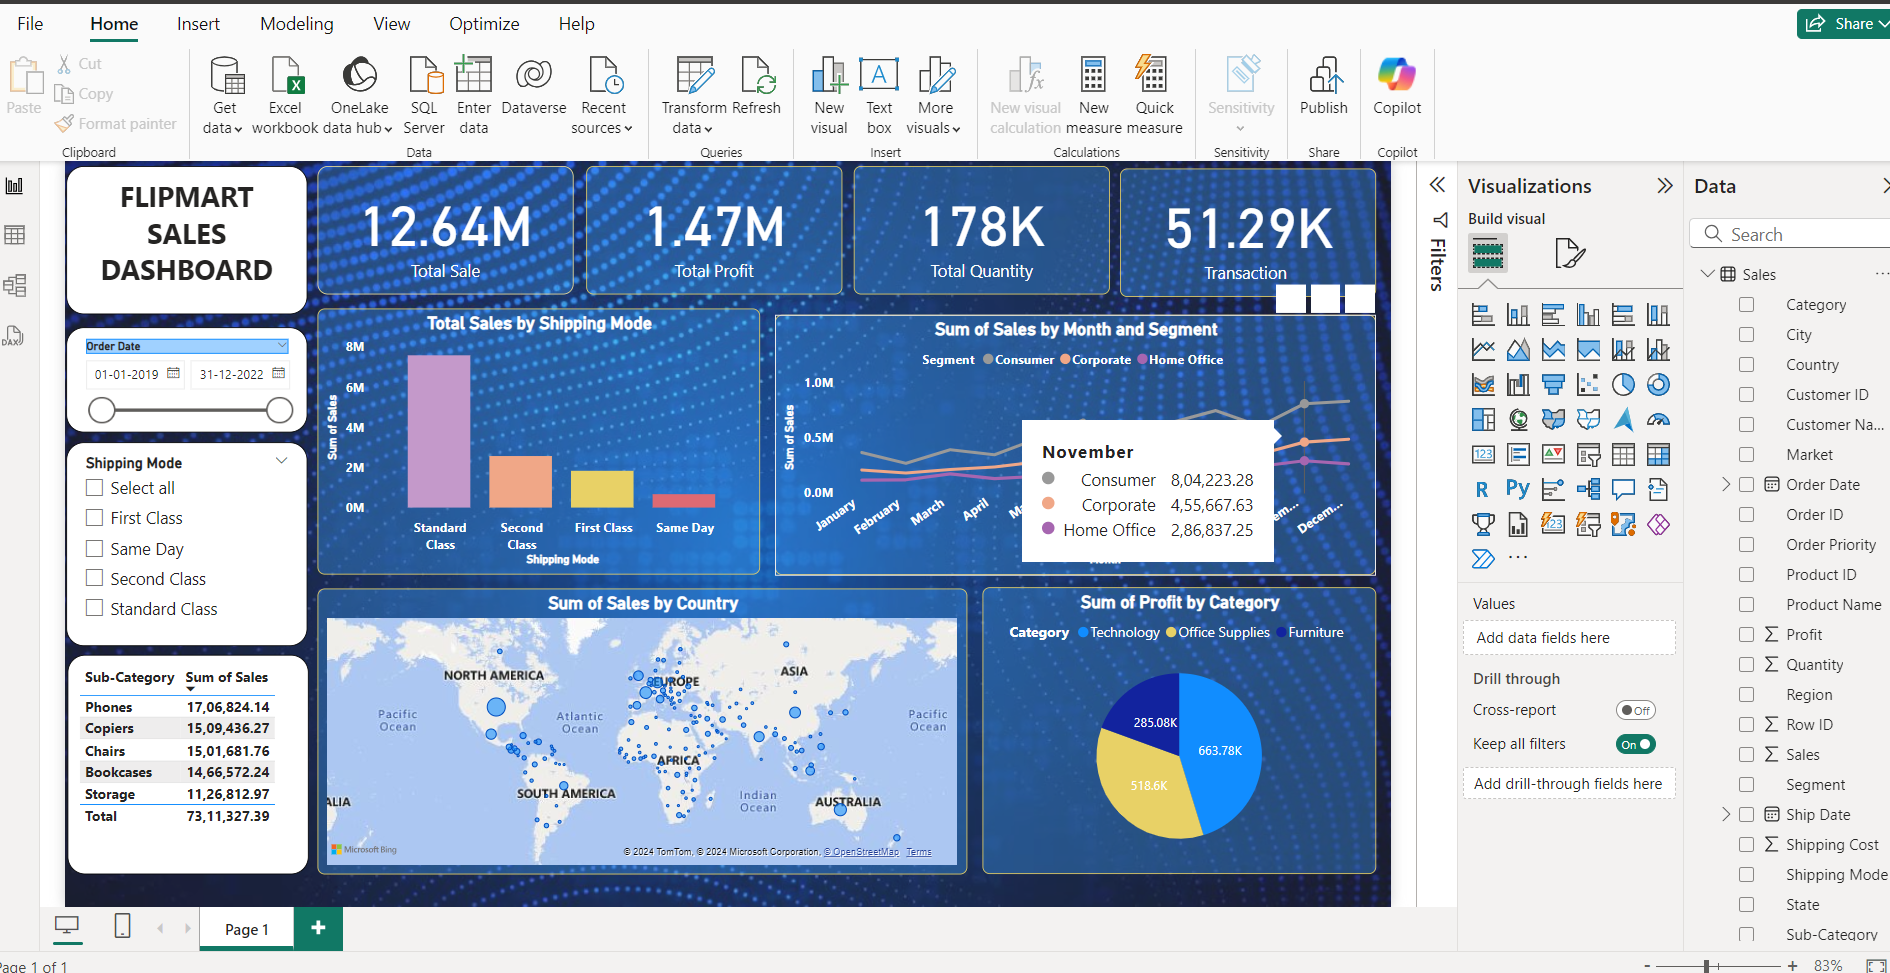

The dashboard page shown, as its layout file describes it:
{"tool":"powerbi","page":{"name":"Page 1","canvas":[1280,720],"ordinal":0},"visuals":[{"type":"card","fields":{"Values":["Sum(Sales.Sales)"]},"box":[244.3,4.3,247.1,124.3],"z":0},{"type":"card","fields":{"Values":["CountNonNull(Sales.Order ID)"]},"box":[1018.6,7.1,247.1,124.3],"z":1000},{"type":"card","fields":{"Values":["Sum(Sales.Quantity)"]},"box":[761.4,4.3,247.1,124.3],"z":2000},{"type":"card","fields":{"Values":["Sum(Sales.Profit)"]},"box":[502.9,4.3,247.1,124.3],"z":3000},{"type":"clusteredColumnChart","title":"Total Sales by Shipping Mode","fields":{"Category":["Sales.Shipping Mode"],"Y":["Sum(Sales.Sales)"]},"box":[244.3,142.9,427.1,257.1],"z":4000},{"type":"pieChart","fields":{"Y":["Sum(Sales.Profit)"],"Category":["Sales.Category"]},"box":[885.7,411.4,380,277.1],"z":5000},{"type":"lineChart","fields":{"Category":["Sales.Order Date.Variation.Date Hierarchy.Month"],"Y":["Sum(Sales.Sales)"],"Series":["Sales.Segment"]},"box":[685.7,148.6,580,251.4],"z":6000},{"type":"map","fields":{"Category":["Sales.Country"],"Size":["Sum(Sales.Sales)"]},"box":[244.3,412.9,627.1,275.7],"z":7000},{"type":"tableEx","title":"Top 5 Sales - Sub Category Wise","fields":{"Values":["Sales.Sub-Category","Sum(Sales.Sales)"]},"box":[2.4,476.5,232.8,212.3],"z":8000},{"type":"slicer","fields":{"Values":["Sales.Shipping Mode"]},"box":[1.2,271.4,232.8,196.6],"z":9000},{"type":"slicer","fields":{"Values":["Sales.Order Date"]},"box":[1.2,160.5,232.8,101.3],"z":10000},{"type":"textbox","box":[1.2,4.8,232.8,143.6],"z":11000}]}

Visuals, with their boxes on the page's 1280x720 design canvas (x1, y1, x2, y2). These are canvas units, not pixel positions in the 1890x973 screenshot, which may show the page scaled, cropped or inside an application window:
card - Sum(Sales.Sales): 244 4 491 129
card - CountNonNull(Sales.Order ID): 1019 7 1266 131
card - Sum(Sales.Quantity): 761 4 1008 129
card - Sum(Sales.Profit): 503 4 750 129
"Total Sales by Shipping Mode" clusteredColumnChart: 244 143 671 400
pieChart - Sum(Sales.Profit) x Sales.Category: 886 411 1266 688
lineChart - Sales.Order Date.Variation.Date Hierarchy.Month x Sum(Sales.Sales): 686 149 1266 400
map - Sales.Country x Sum(Sales.Sales): 244 413 871 689
"Top 5 Sales - Sub Category Wise" tableEx: 2 476 235 689
slicer - Sales.Shipping Mode: 1 271 234 468
slicer - Sales.Order Date: 1 160 234 262
textbox: 1 5 234 148
